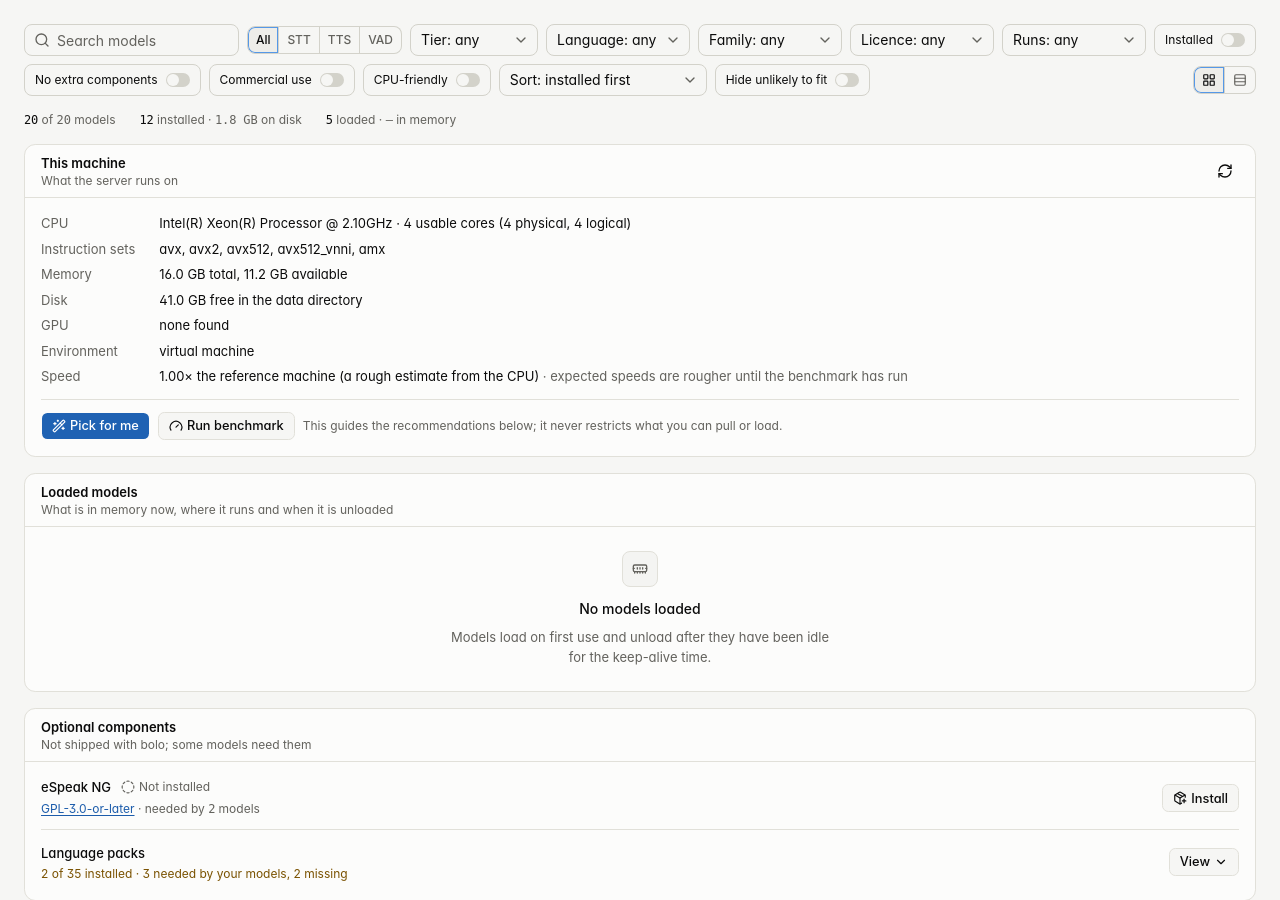
Test: Models page: fit for this machine › shows the hardware card, with the estimate named as one until the benchmark has run
Check: the text "Intel(R) Xeon(R) Processor @ 2.10GHz · 4 usable cores" is shown, box [159, 215, 631, 231]
Check: the element with test id "hardware-card" shows "none found", box [159, 317, 229, 333]
What coordinates should you click on to do the following:
click the button "Run benchmark"
I would click on:
 (226, 426)
Its box is [158, 412, 295, 440].
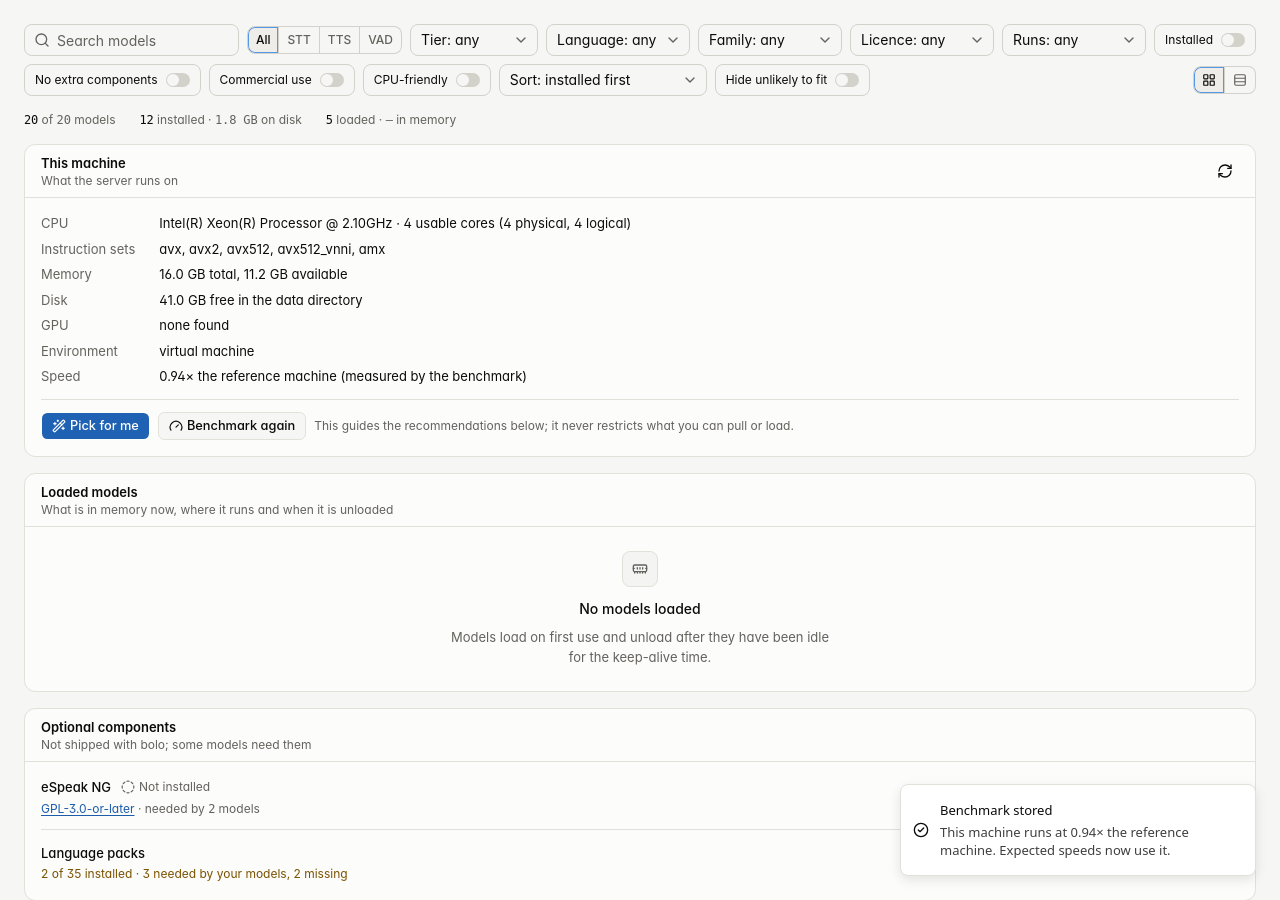
Check: the text with test id "hardware-speed" reads "0.94× the reference machine (measured by the benchmark)", box [159, 368, 527, 384]
Check: the element with test id "hardware-card" no longer shows "rougher until", box [24, 144, 1256, 456]
